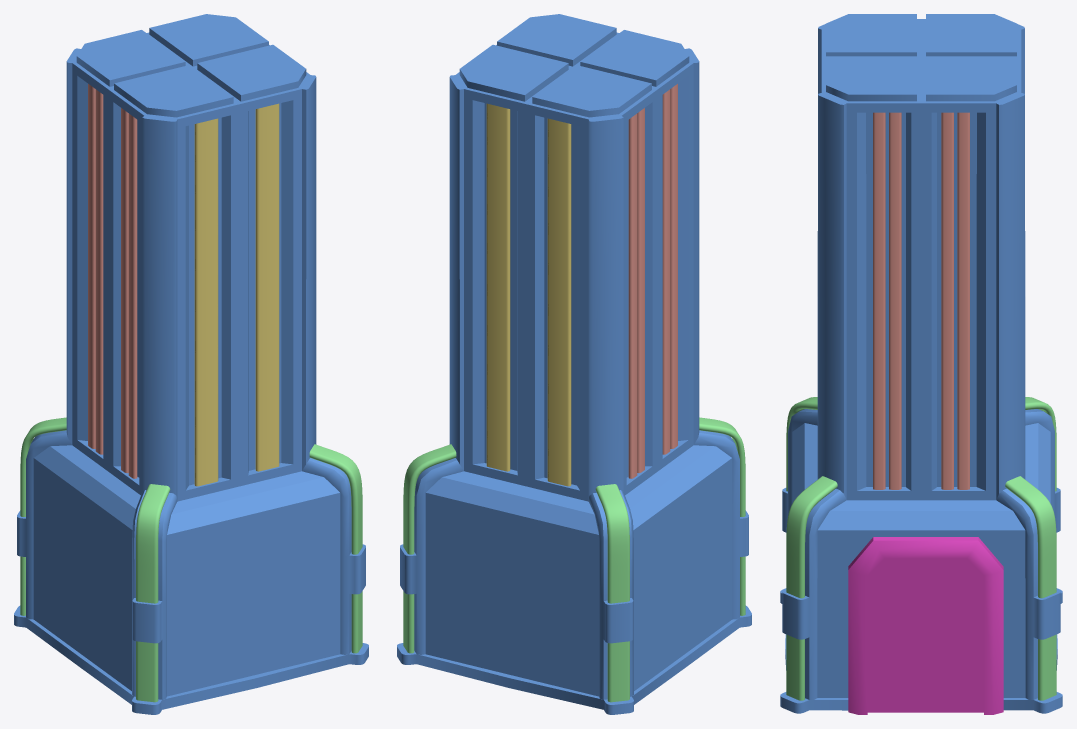
The model's file is TowerBase+Door.fbx.
3 renders of one model, left to right at view 1: azimuth 30°, elevation 25°; view 2: azimuth 150°, elevation 25°; view 3: azimuth 270°, elevation 25°, orthographic. The views are drawn at different scales.
Visible parts, largest first — view 1: Tower; view 2: Tower; view 3: Tower.
Boxes of the visible parts, <box> form: Tower: <box>14,14,368,714</box>; Tower: <box>397,14,751,714</box>; Tower: <box>780,14,1062,714</box>.
Size of the model in its own units: 313 by 727 by 310.
